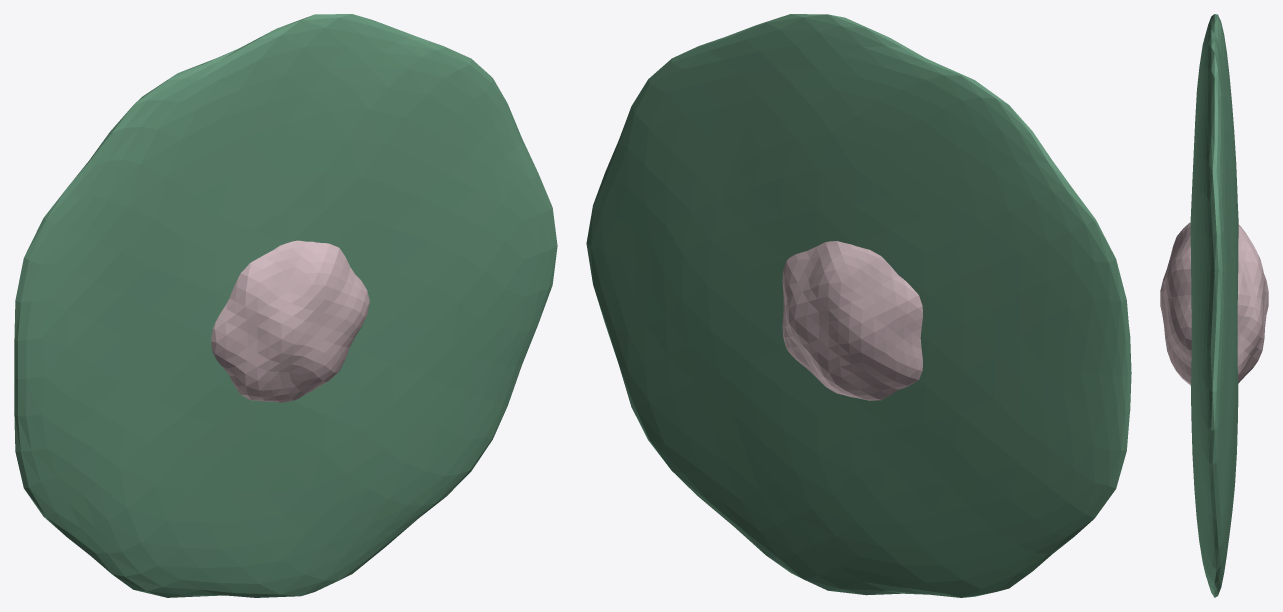
Rendered from Bana_Giant_Lotus.glb.
The picture shows the model from 3 angles, left to right: view 1: azimuth 30°, elevation 25°; view 2: azimuth 150°, elevation 25°; view 3: azimuth 270°, elevation 25°; orthographic projection. The views are drawn at different scales.
Visible parts, largest first — view 1: world; view 2: world; view 3: world.
Part boxes in pixels (<box>): world: <box>14,14,557,597</box>; world: <box>586,14,1131,597</box>; world: <box>1160,14,1268,597</box>.
Size of the model in its own units: 4.21 by 4.27 by 0.7837.
